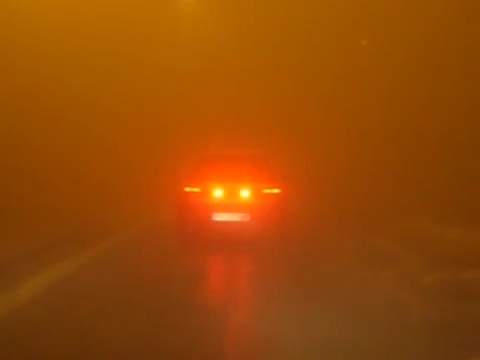car: (169, 151, 297, 246)
